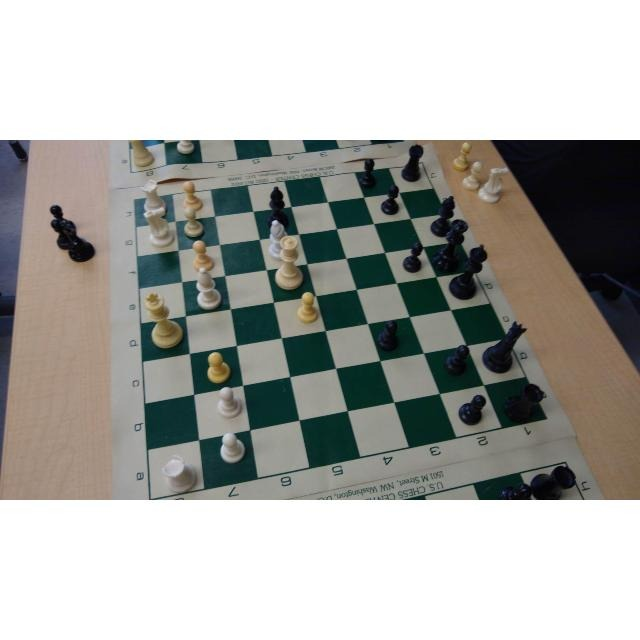black-bishop: (429, 194, 458, 239), (268, 184, 288, 228)
black-king: (448, 241, 490, 303)
black-knight: (481, 319, 529, 375)
black-pawn: (458, 391, 486, 428), (445, 343, 471, 377), (400, 240, 425, 274), (376, 318, 400, 353), (496, 480, 535, 499), (379, 183, 400, 216), (358, 156, 377, 189)
black-queen: (431, 215, 469, 274)
black-rook: (501, 381, 545, 427), (528, 464, 578, 500), (401, 141, 425, 183)
white-bishop: (193, 266, 223, 311), (267, 220, 290, 264)
white-king: (141, 290, 185, 351)
white-knight: (142, 206, 176, 248)
white-pawn: (216, 384, 244, 419), (206, 349, 230, 386), (219, 432, 246, 464), (296, 290, 320, 325), (192, 240, 216, 274), (181, 206, 205, 239), (180, 180, 204, 212), (176, 140, 195, 156)
white-rook: (159, 453, 199, 494), (139, 179, 167, 221), (126, 140, 156, 168)
